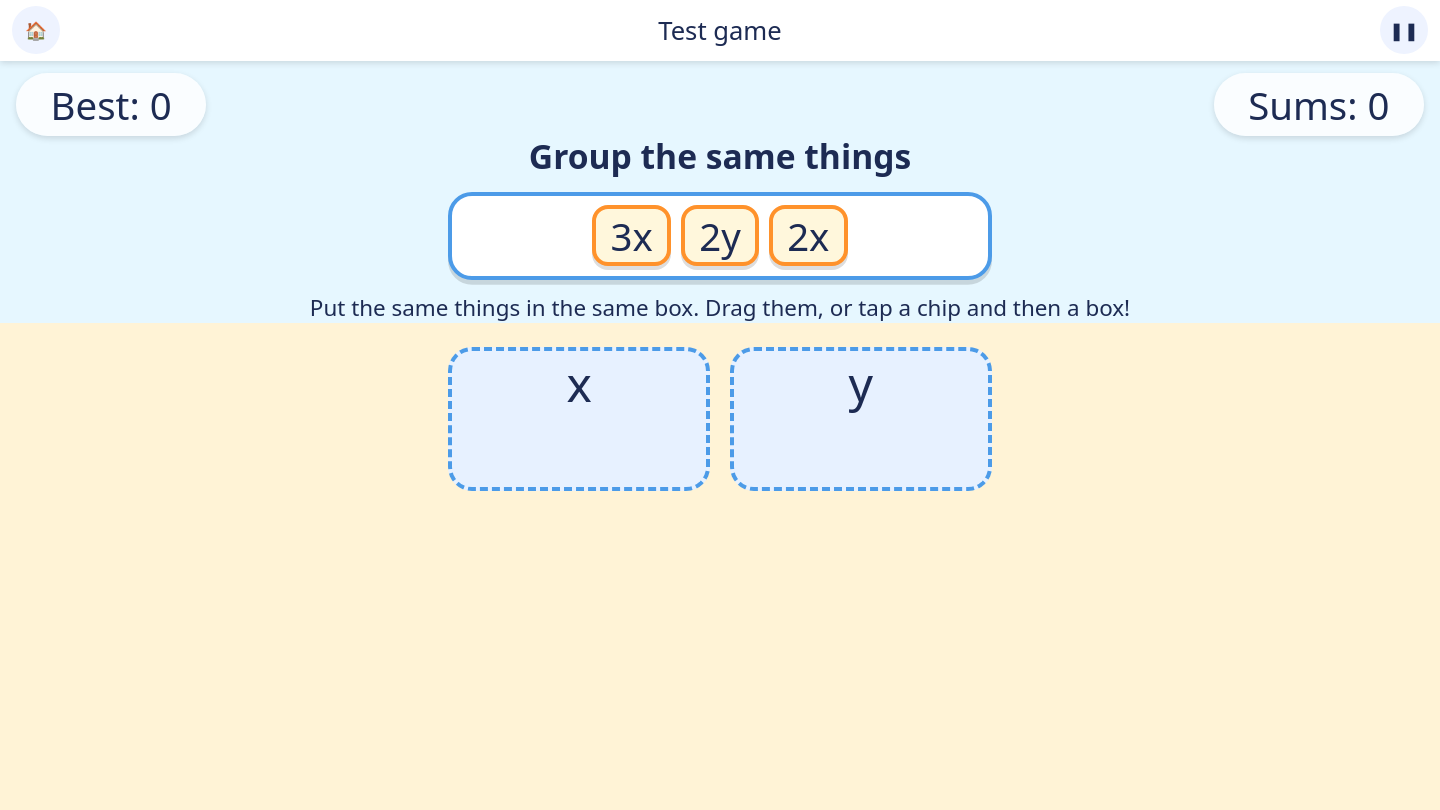
it: GroupScreen › shows the answer when everything is grouped, and counts it
The image size is (1440, 810).
Click the button "3x" at (632, 236), box [592, 205, 671, 266]
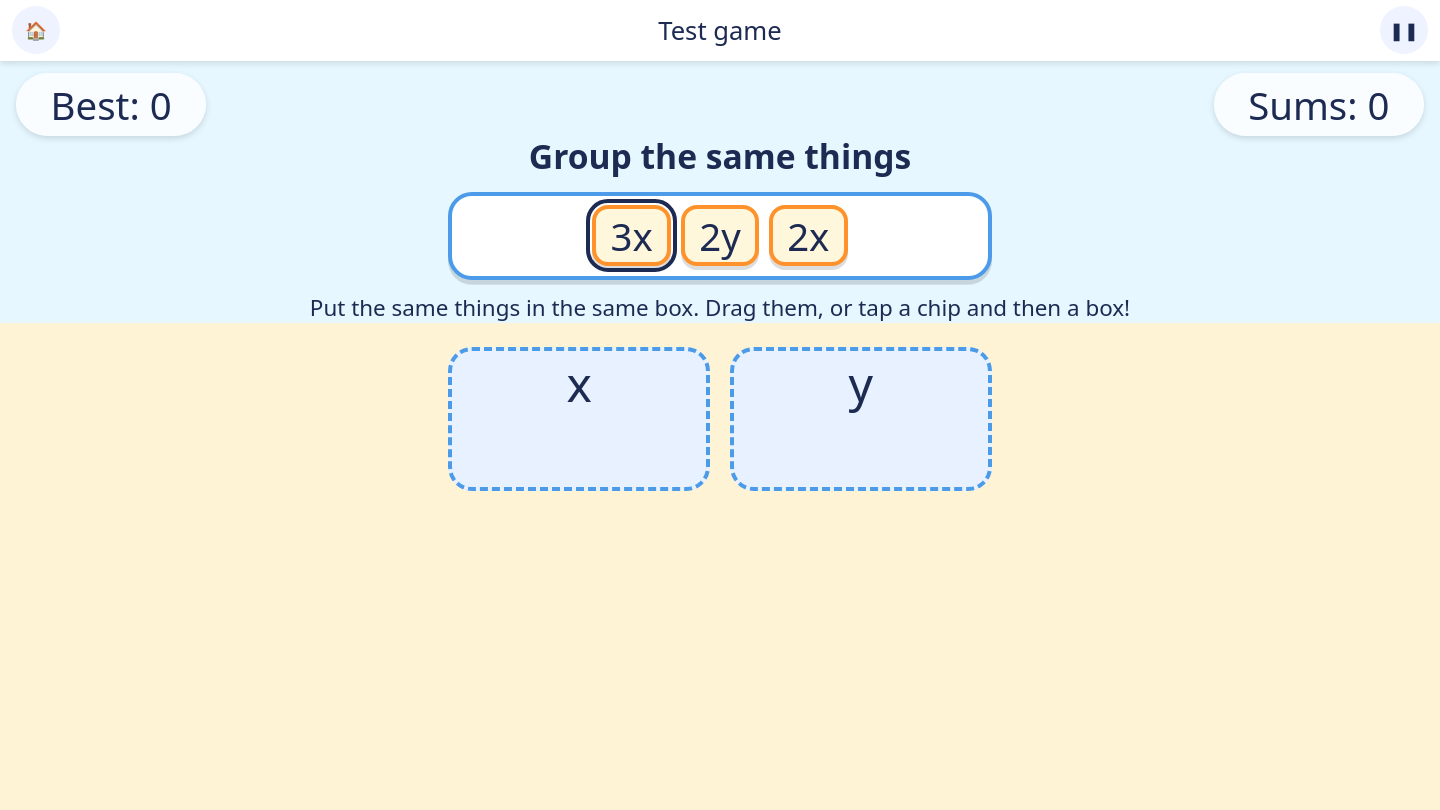
Click the button "x" at (579, 419), box [448, 347, 710, 491]
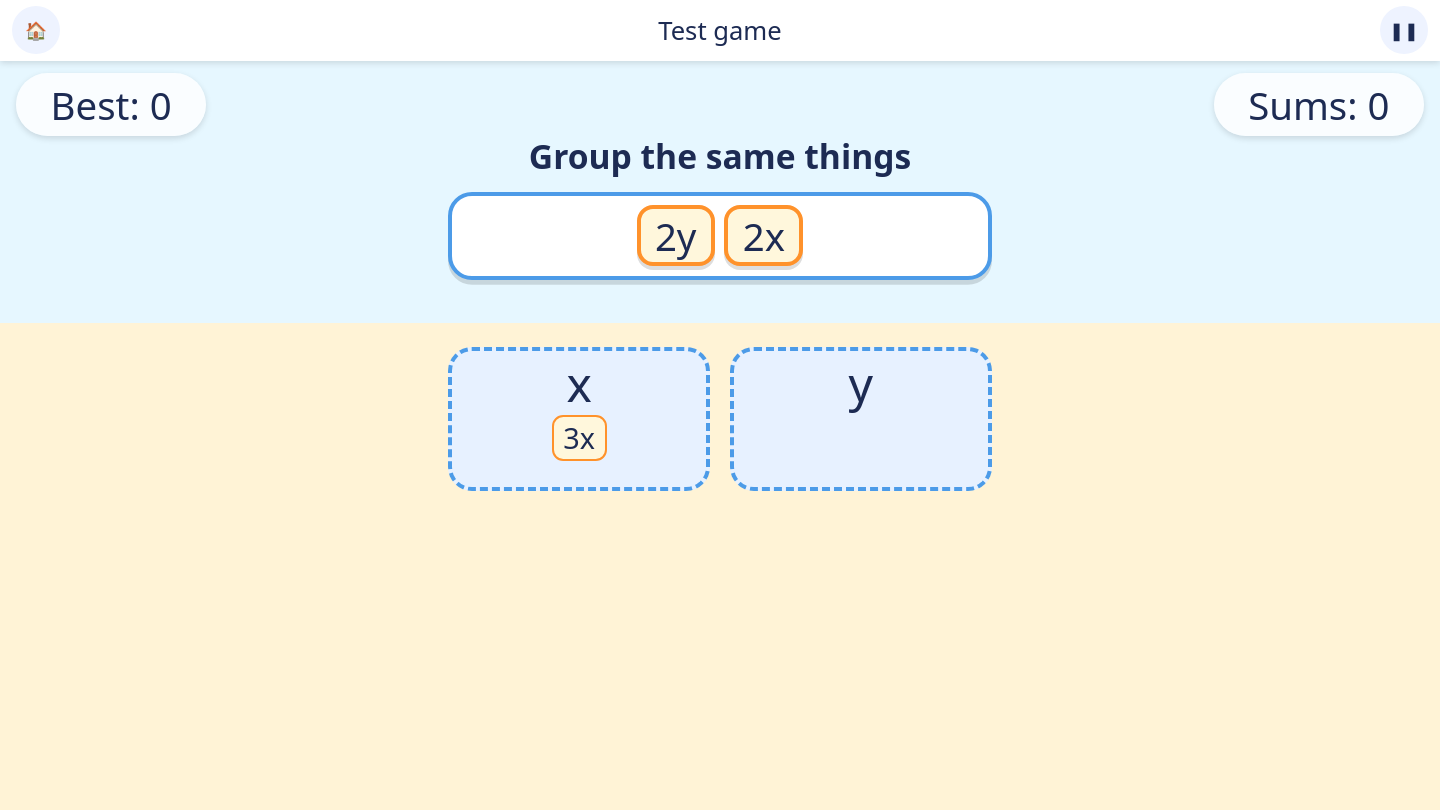
Click the button "2y" at (676, 236), box [636, 205, 715, 266]
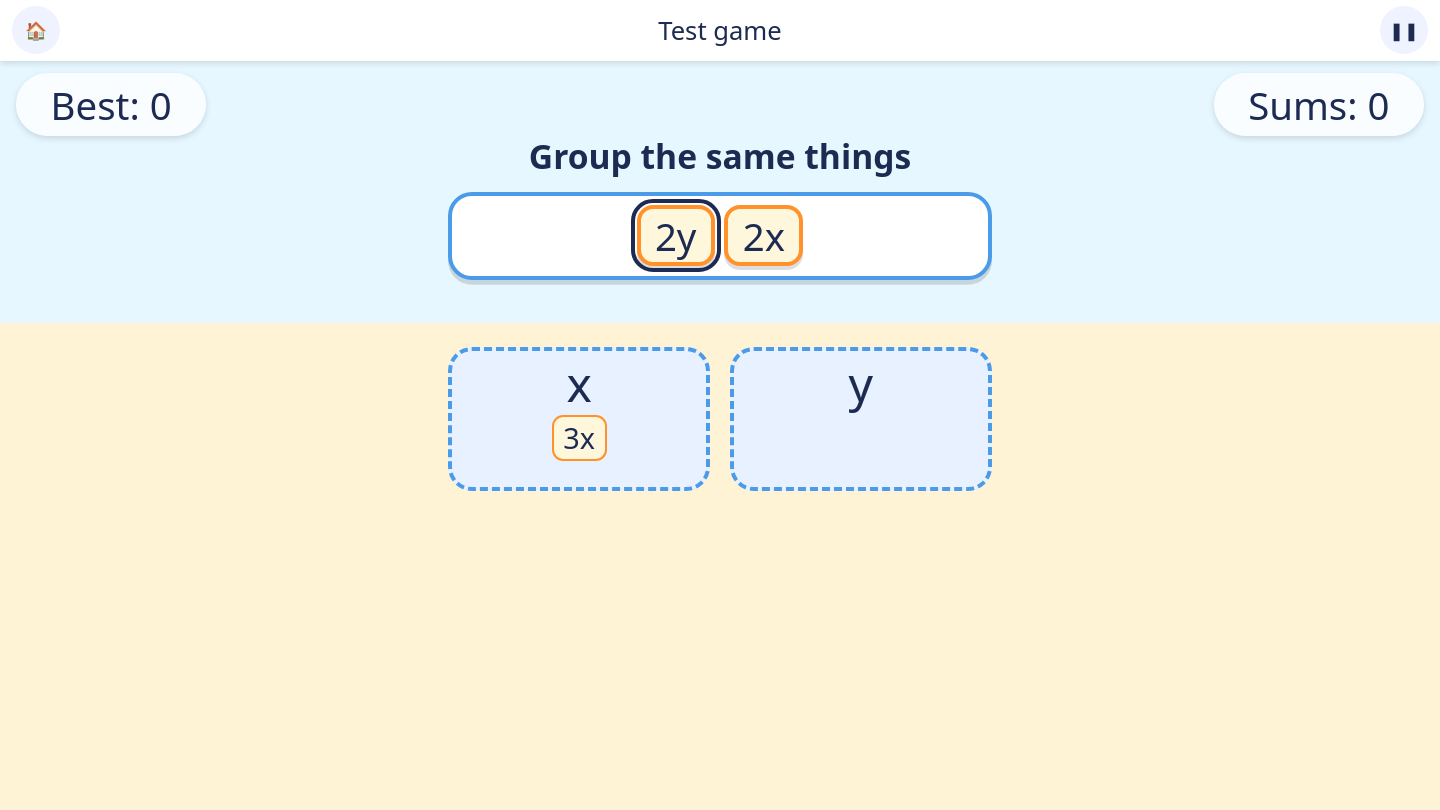
Click the button "y" at (861, 419), box [730, 347, 992, 491]
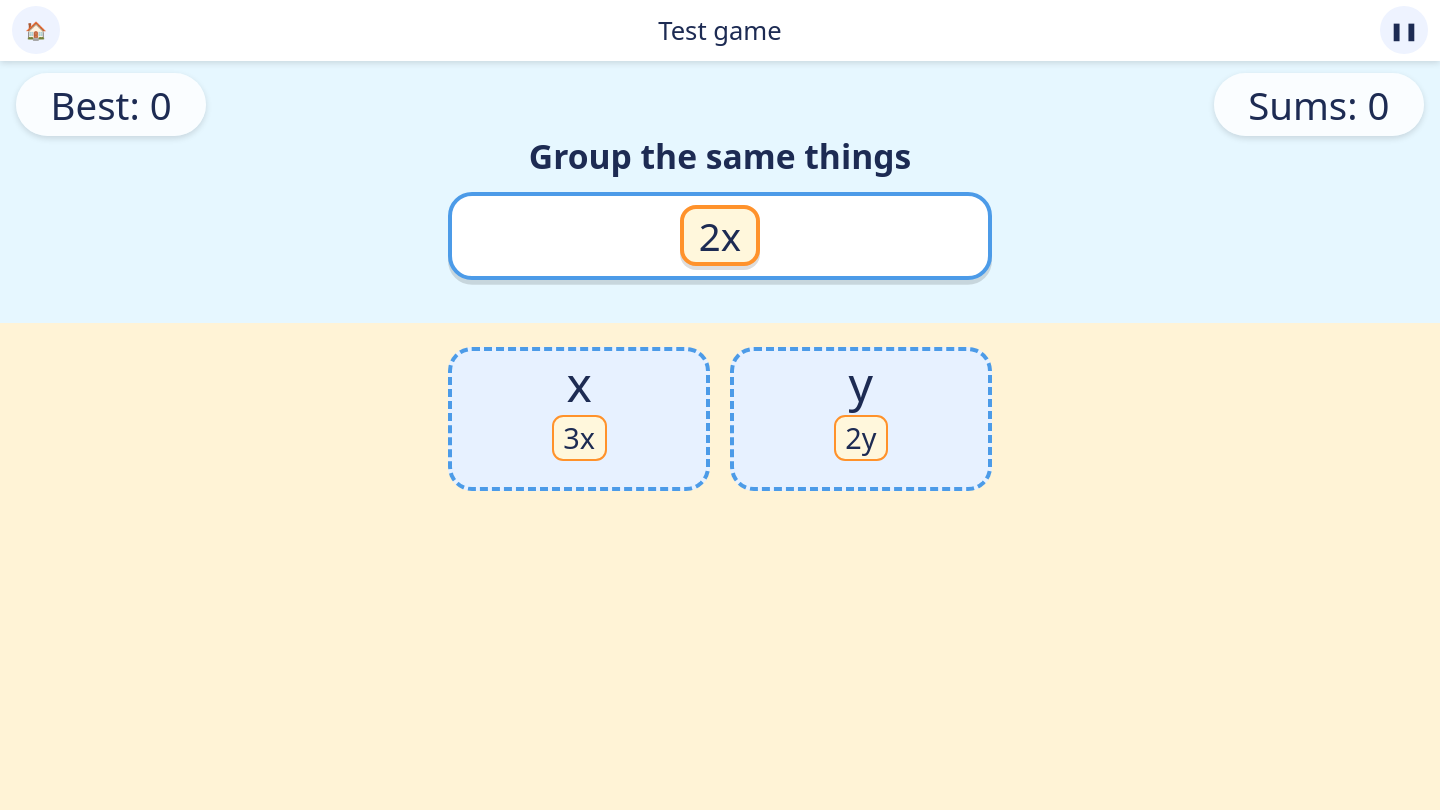
Click the button "2x" at (720, 236), box [680, 205, 760, 266]
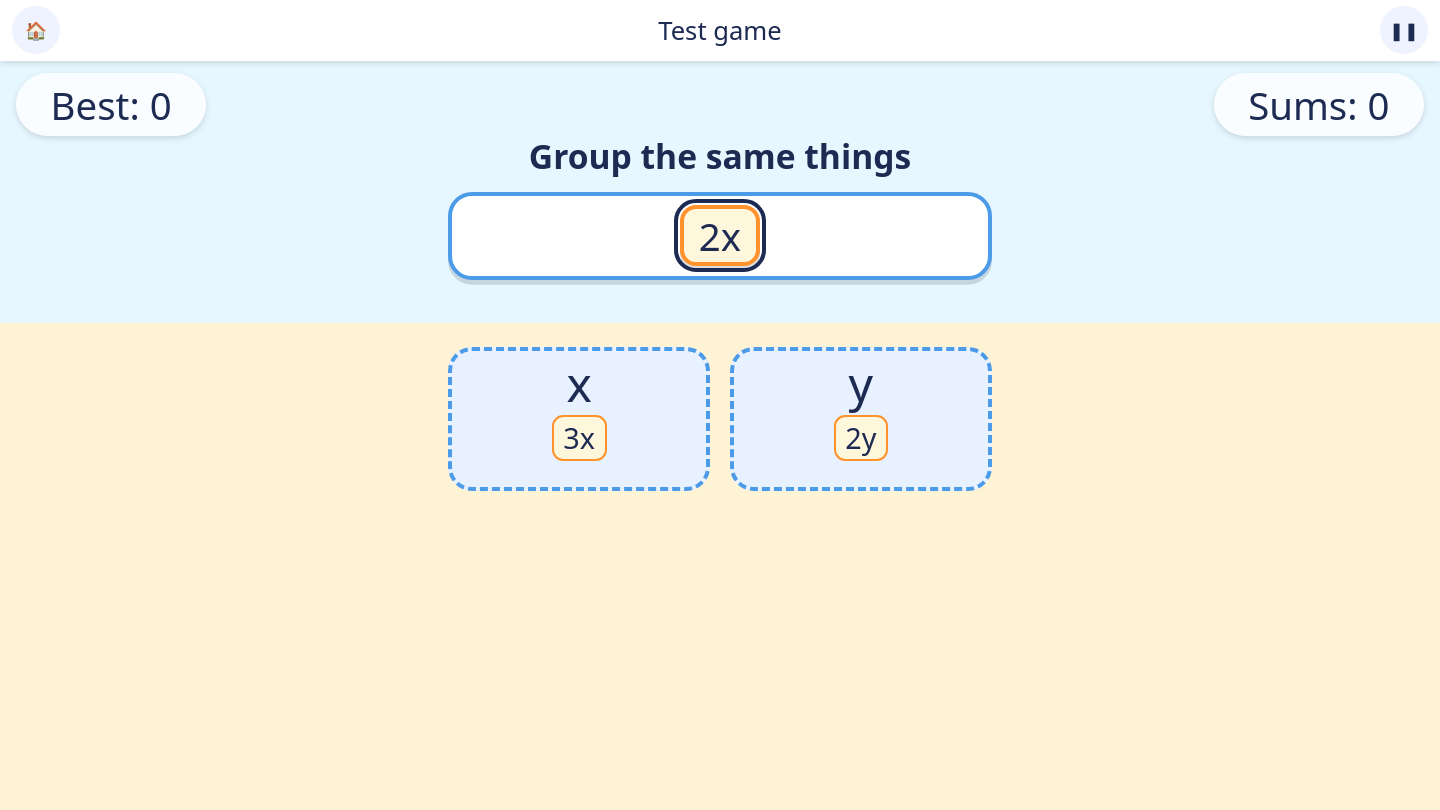
Click the button "x 3x" at (579, 419), box [448, 347, 710, 491]
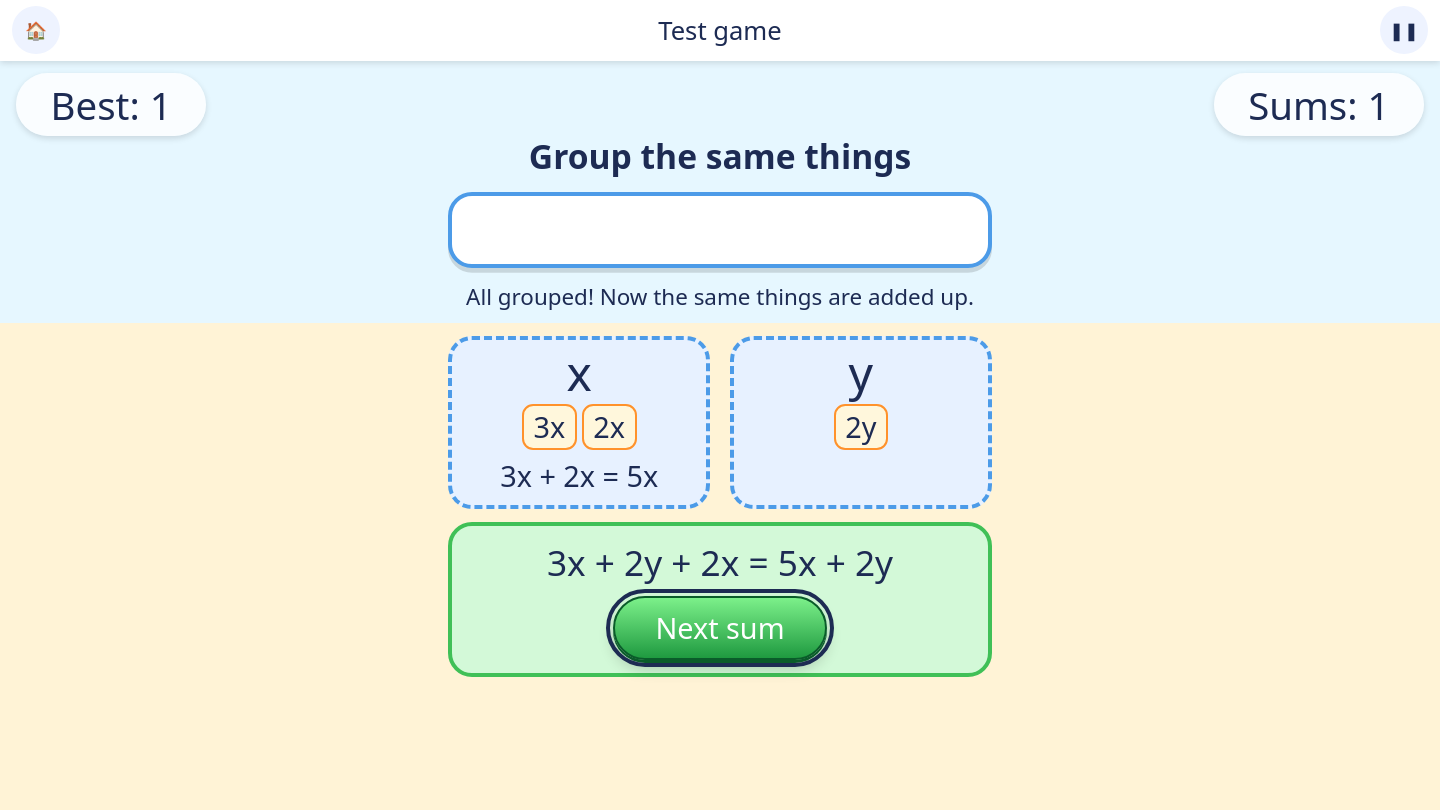
Expected: the element named "Answer" shows "3x + 2y + 2x = 5x + 2y", [448, 522, 992, 677]
Expected: the message "Sums: 1" is shown, [1214, 73, 1424, 136]
